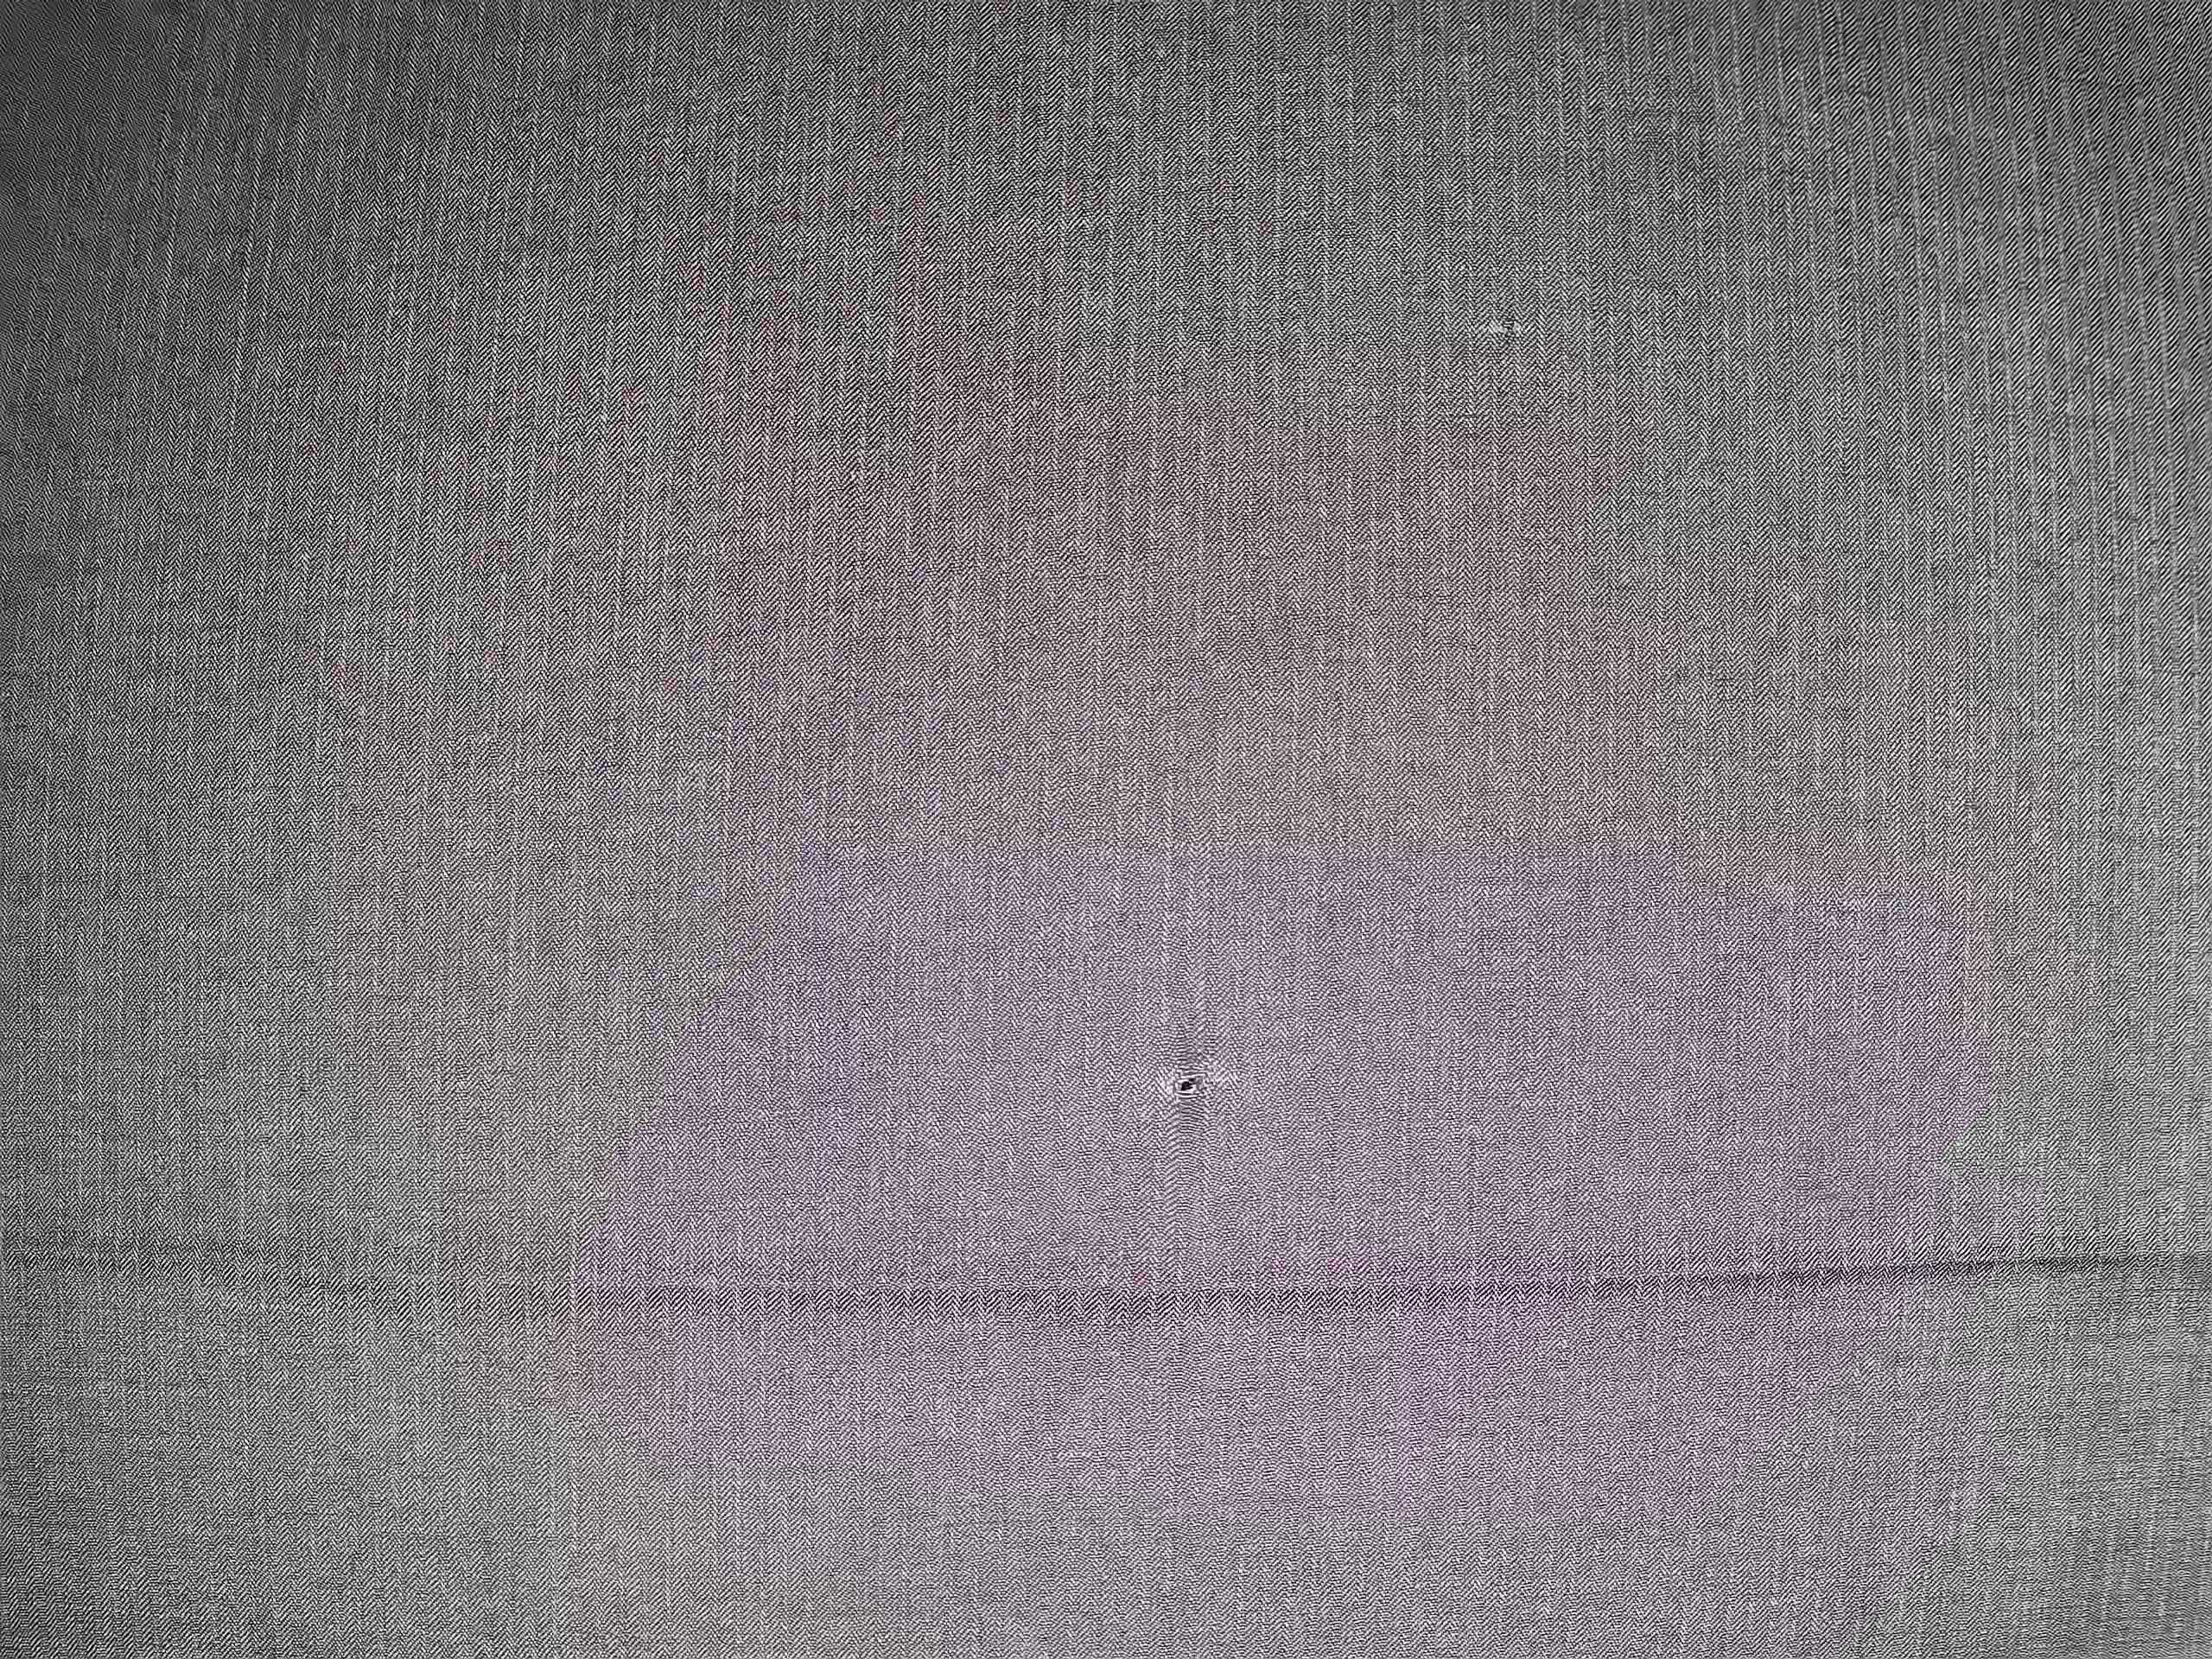rubbing-hole: (1148, 1037, 1228, 1143)
